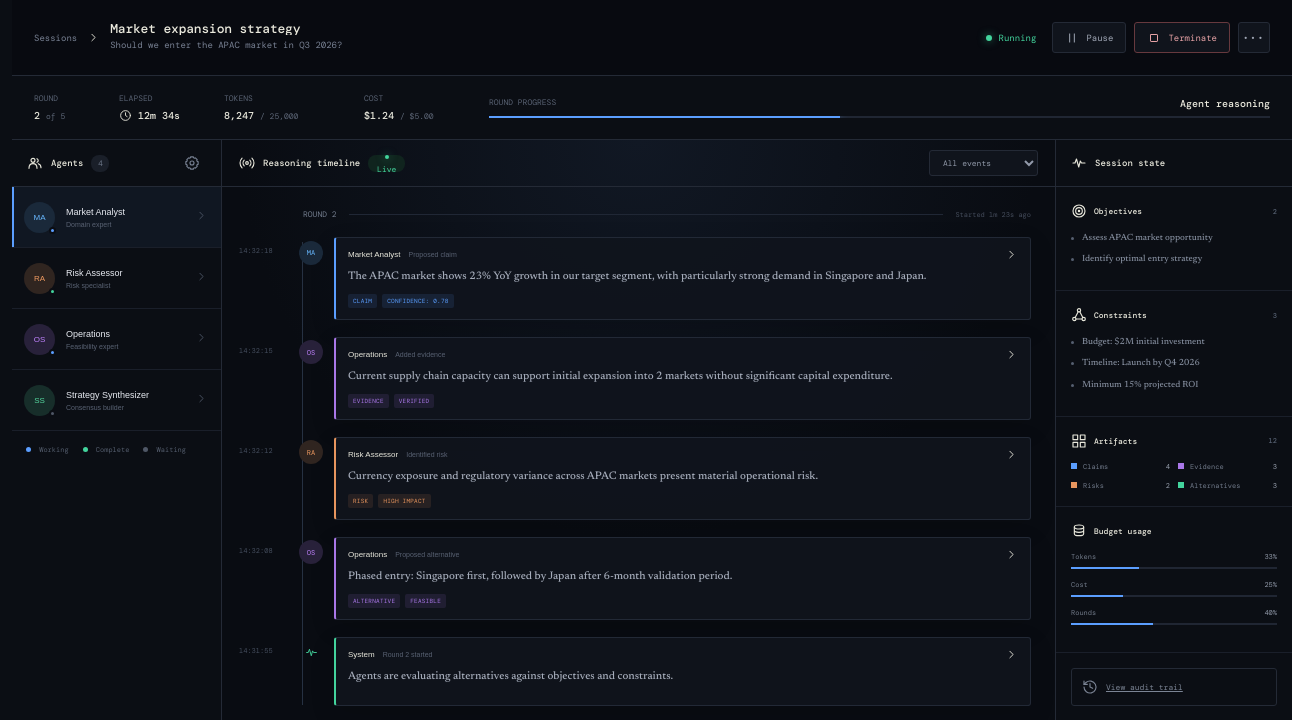
Scenario: ReasoningPage live console › supports session control and durable human guidance
Expected: the heading "Market expansion strategy" is shown, [110,20,300,37]
Expected: the text "Running" is shown, [986,32,1036,44]
Click the button "Pause" at (1089,38), box [1052,22,1126,53]
(page scrolled)
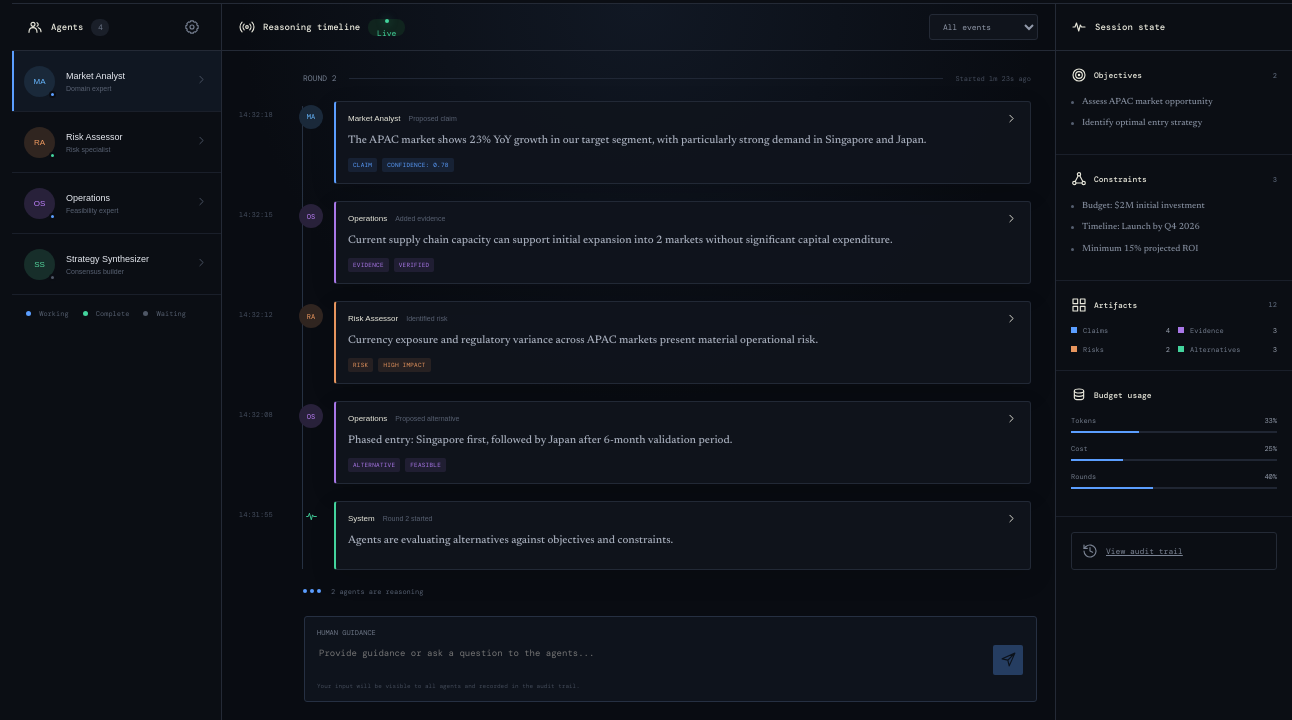
Type "Prioritize regulatory evidence." into the text box labelled "Human guidance" at (651,660), box [317,645,985,676]
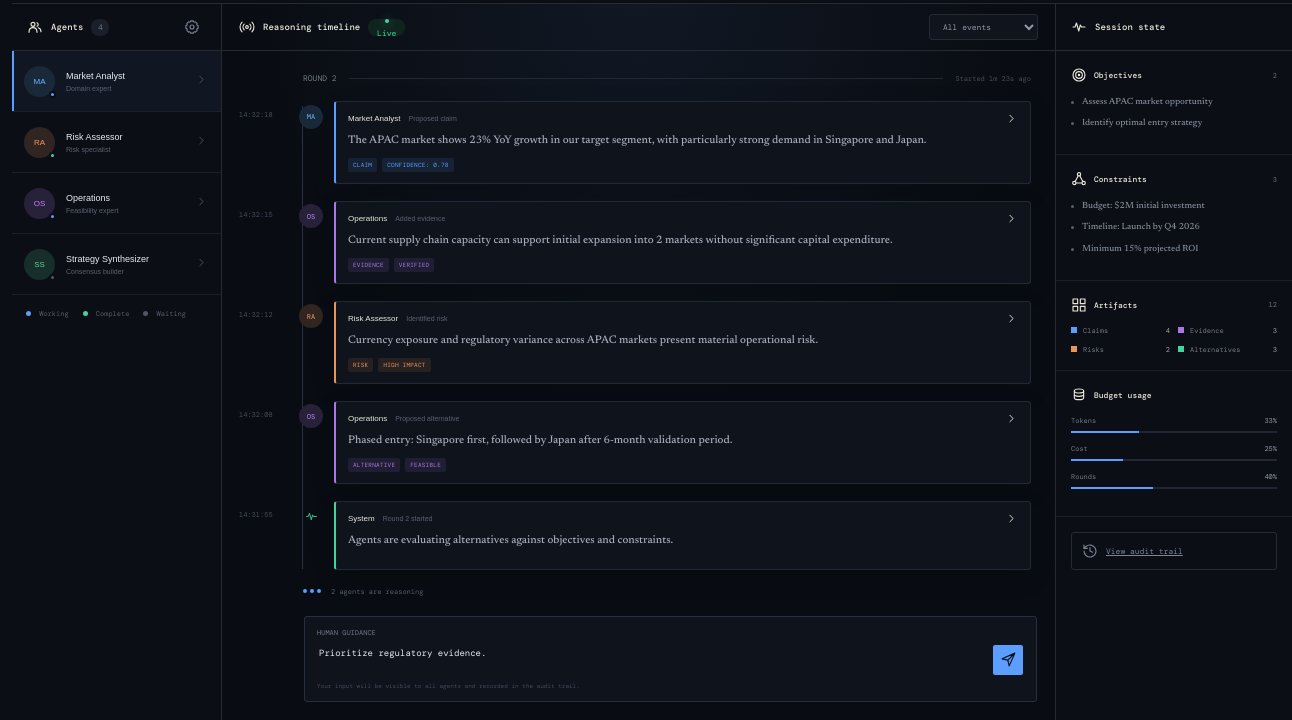
Click the button named "Send guidance" at (1008,660), box [993,645,1023,675]
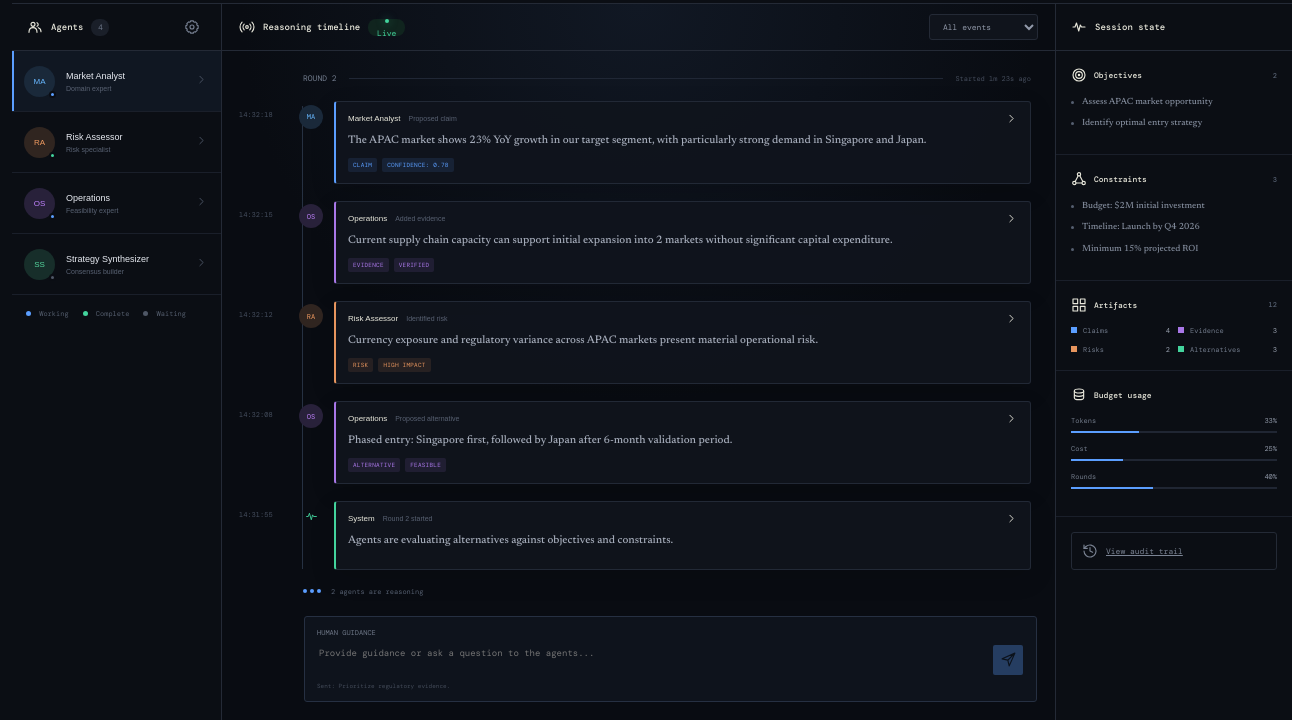
Result: the text "Sent: Prioritize regulatory evidence." is shown at [317,682,450,690]
